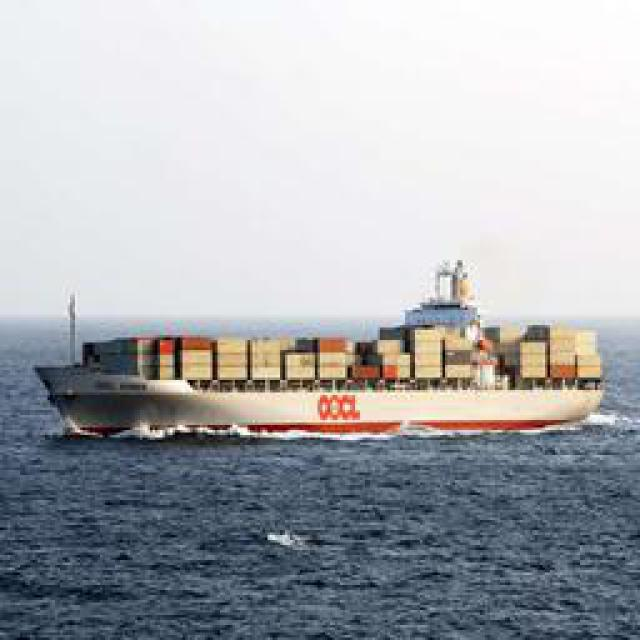Ship: (44, 308, 609, 443)
